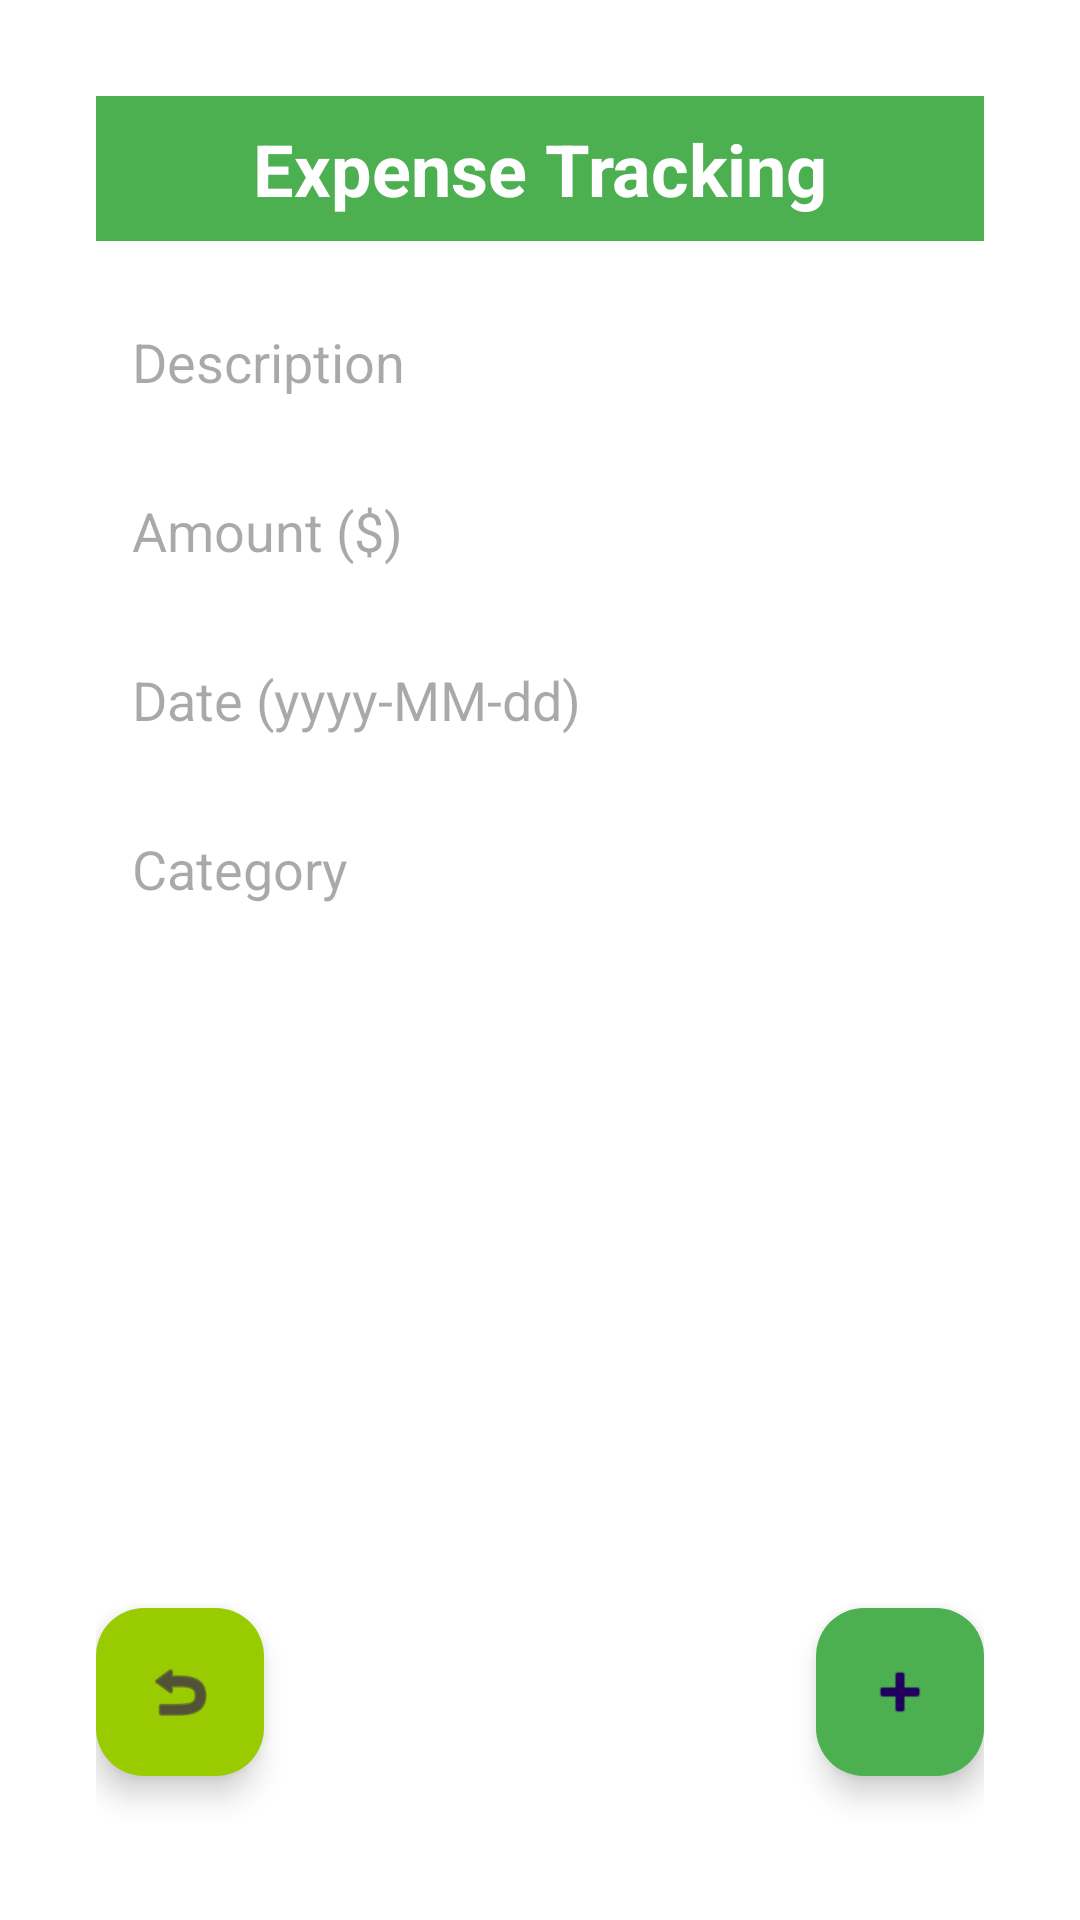

Icons on this 1080*1920 Android screen, each with its box as (x1, y1, x2, y2):
Add Expense: (816, 1608, 984, 1776)
Back to Menu: (96, 1608, 264, 1776)
